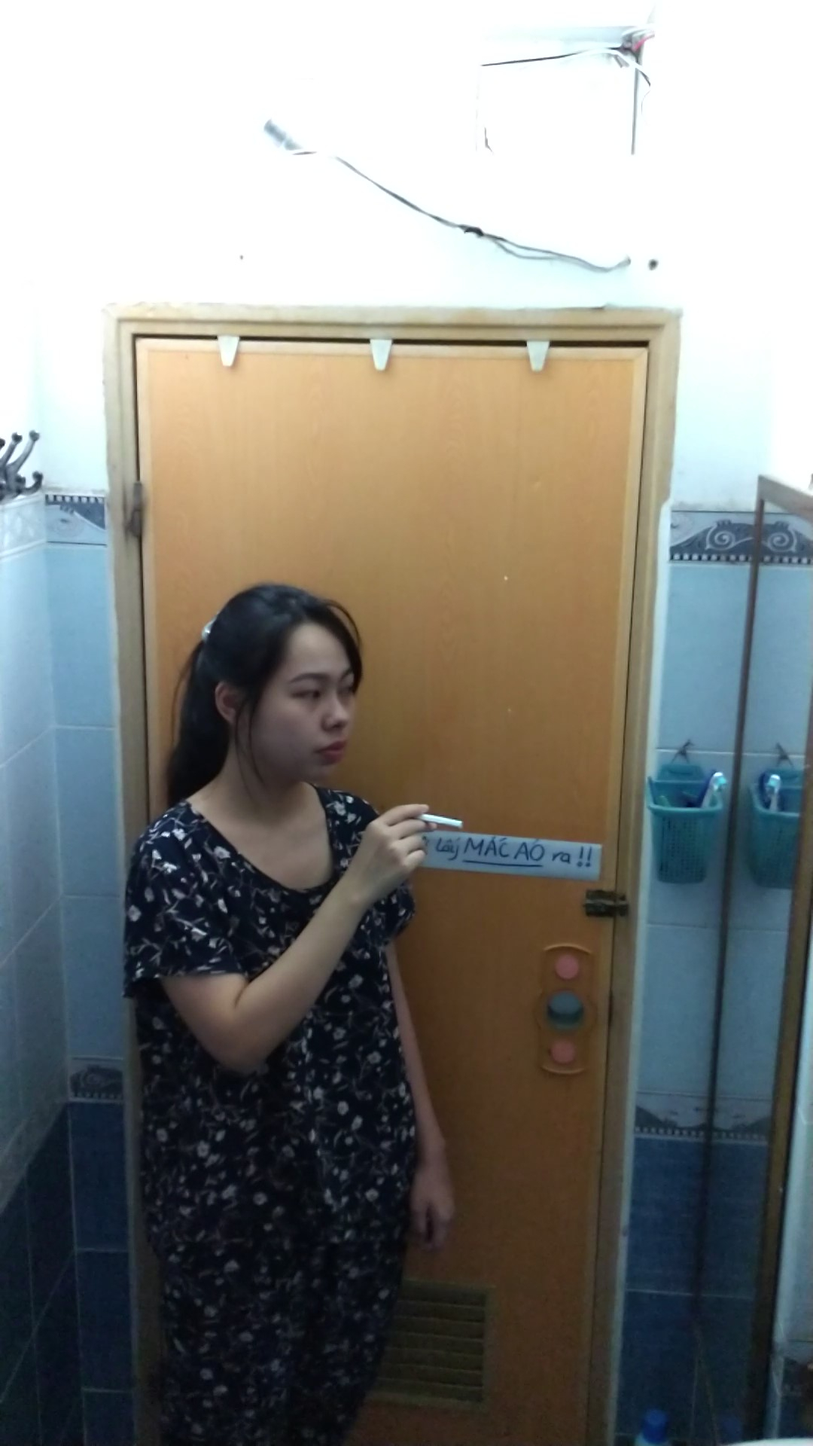cigarette: (422, 809, 467, 834)
person: (120, 572, 455, 1443)
